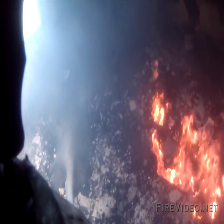fire_h: (152, 112, 221, 198), (151, 91, 169, 126)
fire_l: (150, 59, 159, 79), (192, 207, 203, 220), (210, 201, 217, 219), (213, 186, 220, 197), (222, 175, 224, 189)
